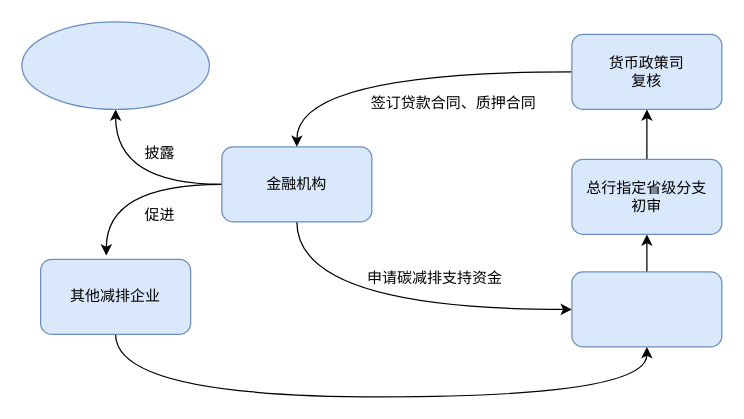
This 744x419 diagram has some shape labels left out. Here are the shapes that lost their labels. From the top down, the centre of each, then its label:
At (x=115, y=65): "碳减排贷款相关信息".
At (x=646, y=309): "人民银行".
